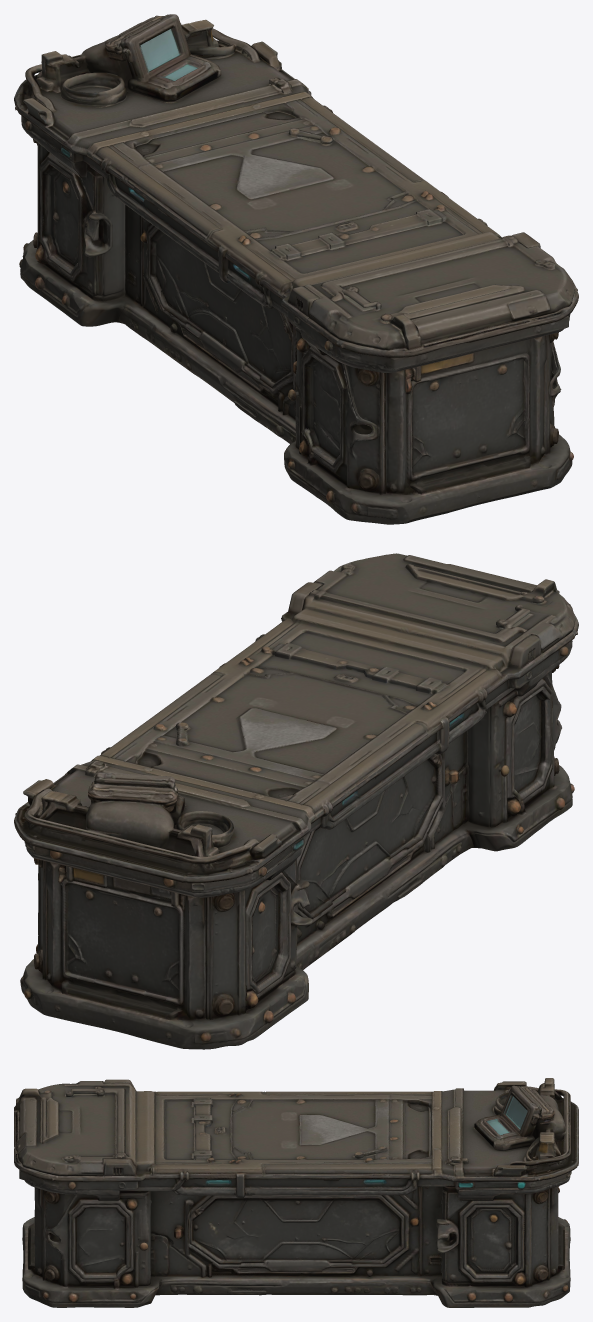
The model's file is forge_counter.glb.
3 views of the same model, one above another, from view 1: azimuth 30°, elevation 25°; view 2: azimuth 150°, elevation 25°; view 3: azimuth 270°, elevation 25° (orthographic). The views are drawn at different scales.
Visible parts, largest first — view 1: tripo_node_94f46f7b-5913-4a23-8c62-04077b1da30f; view 2: tripo_node_94f46f7b-5913-4a23-8c62-04077b1da30f; view 3: tripo_node_94f46f7b-5913-4a23-8c62-04077b1da30f.
Boxes of the visible parts, x1,y1,x2,y2 form: tripo_node_94f46f7b-5913-4a23-8c62-04077b1da30f: [14, 14, 578, 524]; tripo_node_94f46f7b-5913-4a23-8c62-04077b1da30f: [14, 553, 578, 1049]; tripo_node_94f46f7b-5913-4a23-8c62-04077b1da30f: [14, 1078, 578, 1307].
Bounding box in the file's own units: 0.3616 × 0.3346 × 0.9848.
1 material, 1 textured.
